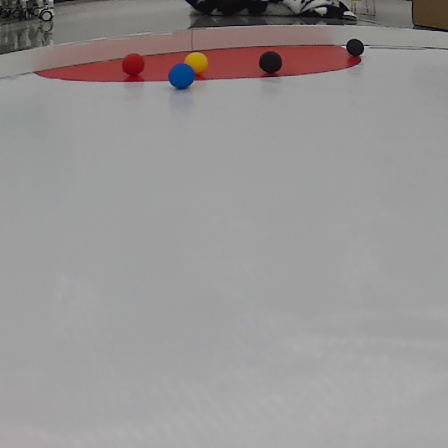black: (260, 46, 284, 74), (345, 35, 366, 58)
blue: (168, 63, 195, 89)
red: (124, 53, 144, 77)
red_base: (24, 42, 378, 83)
yellow: (184, 52, 211, 73)
